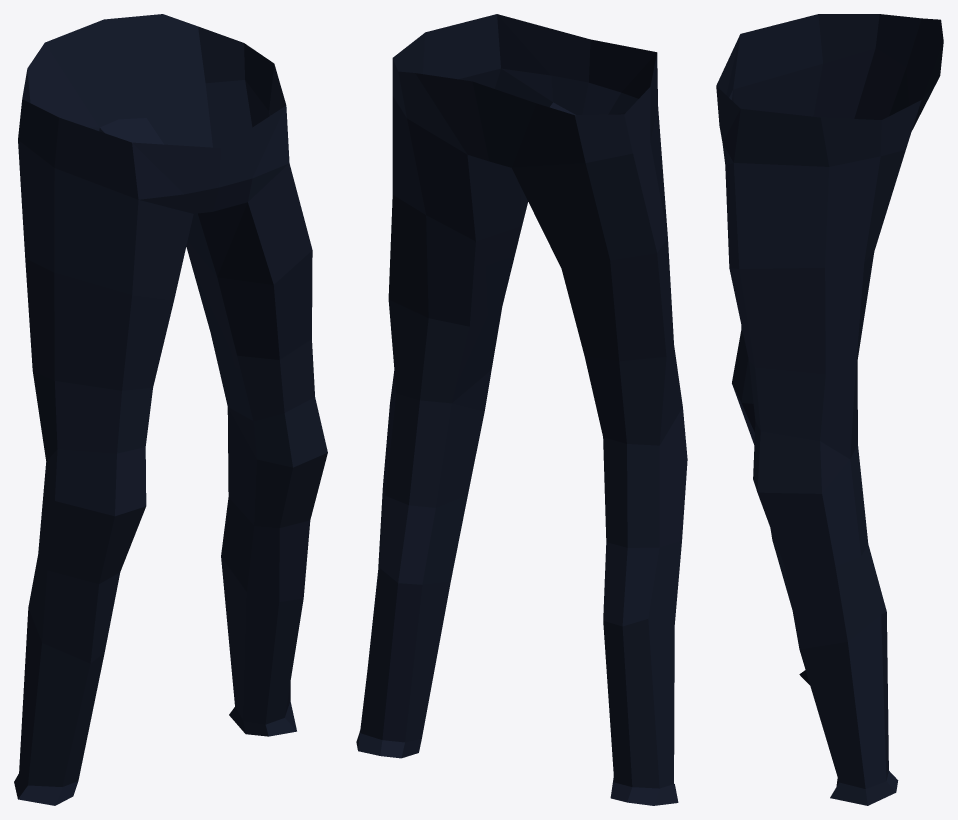
Rendered from Pants.obj.
3 renders of one model, left to right at view 1: azimuth 30°, elevation 25°; view 2: azimuth 150°, elevation 25°; view 3: azimuth 270°, elevation 25°, orthographic. The views are drawn at different scales.
Bounding box in the file's own units: 0.4192 × 0.9635 × 0.2863.
